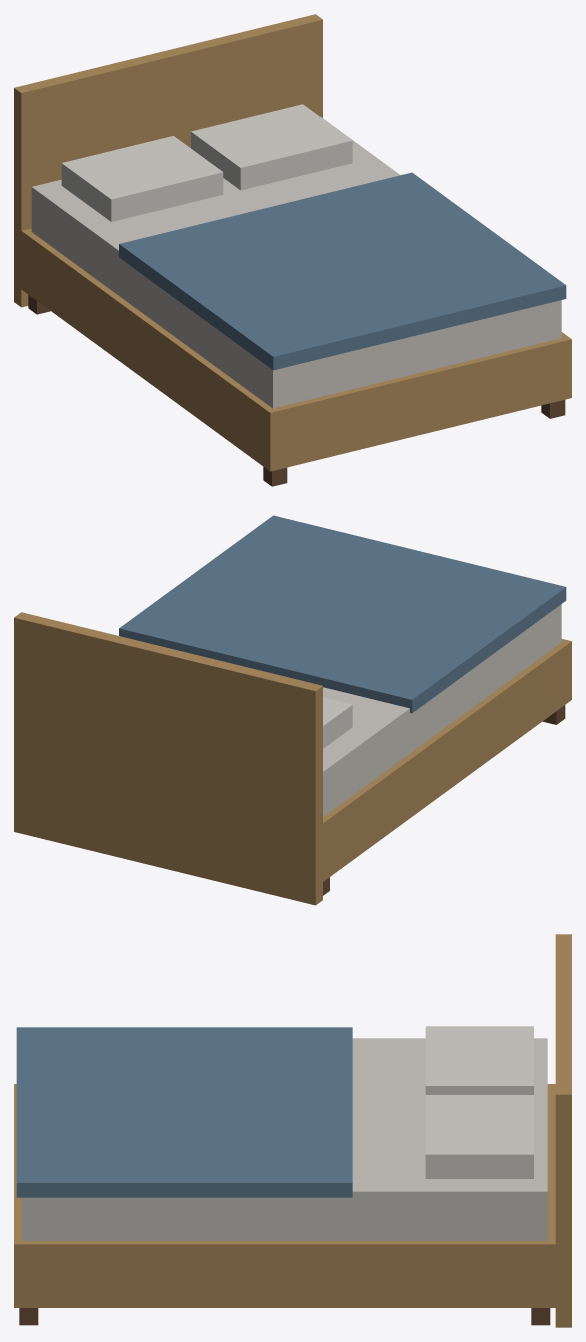
File: bed_double.glb
The picture shows the model from 3 angles, top to bottom: view 1: azimuth 30°, elevation 25°; view 2: azimuth 150°, elevation 25°; view 3: azimuth 270°, elevation 25°; orthographic projection. The views are drawn at different scales.
Visible parts, largest first — view 1: bed_double; view 2: bed_double; view 3: bed_double.
Part boxes in pixels (x1,y1,x2,y2): bed_double: (14, 14, 571, 486); bed_double: (14, 515, 571, 905); bed_double: (14, 934, 571, 1327).
Bounding box in the file's own units: 1.4 × 0.95 × 2.06.
